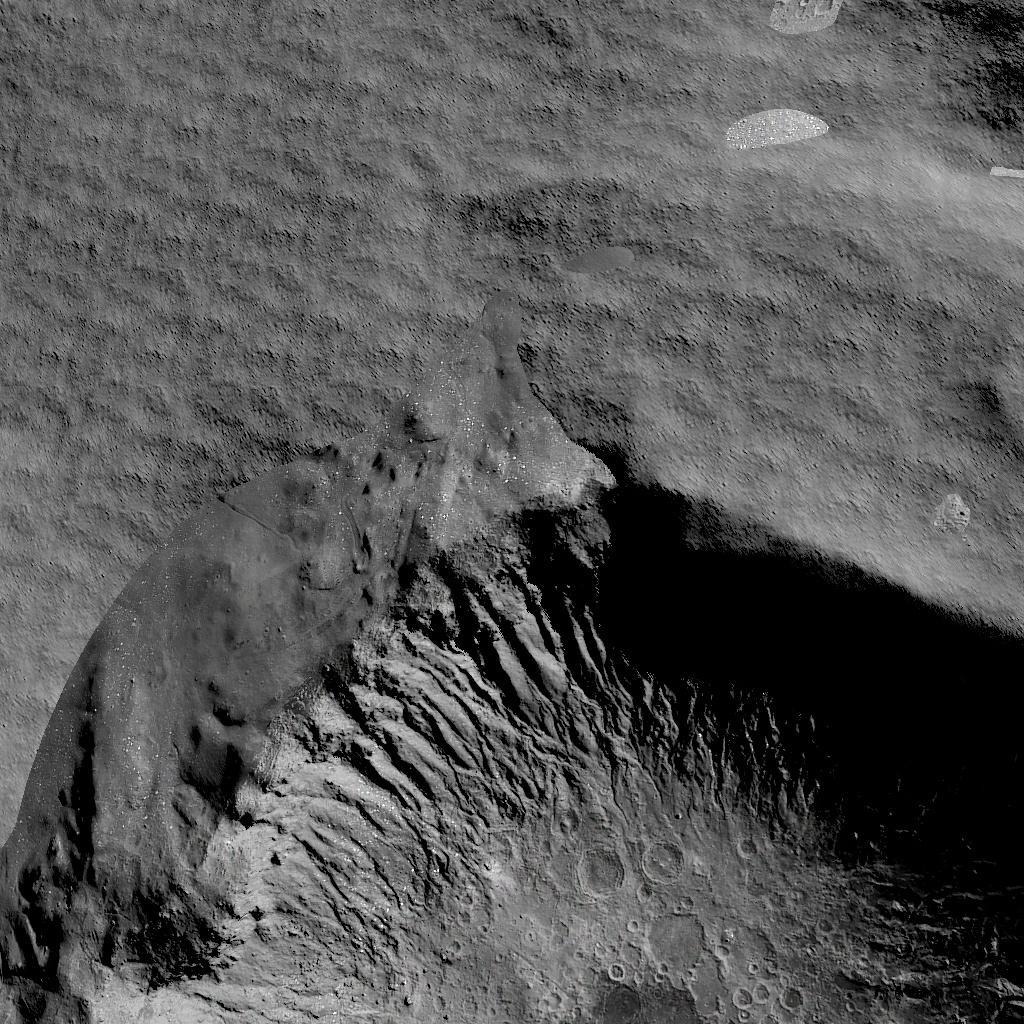Boulders: (2, 2, 86, 88)
Crater: (0, 373, 1024, 1021), (895, 0, 1024, 134)
Plan surface: (120, 0, 822, 336)
